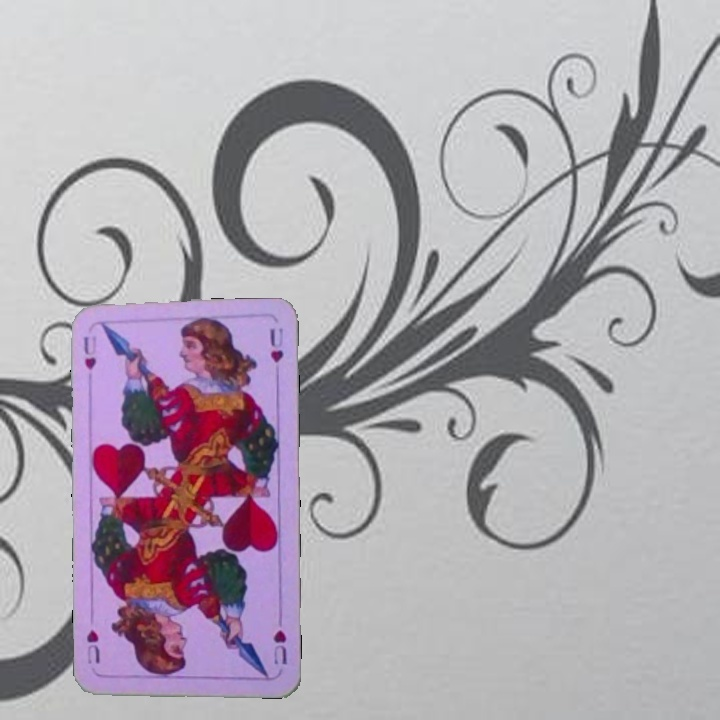HU: (269, 626, 290, 668), (79, 331, 99, 372)
